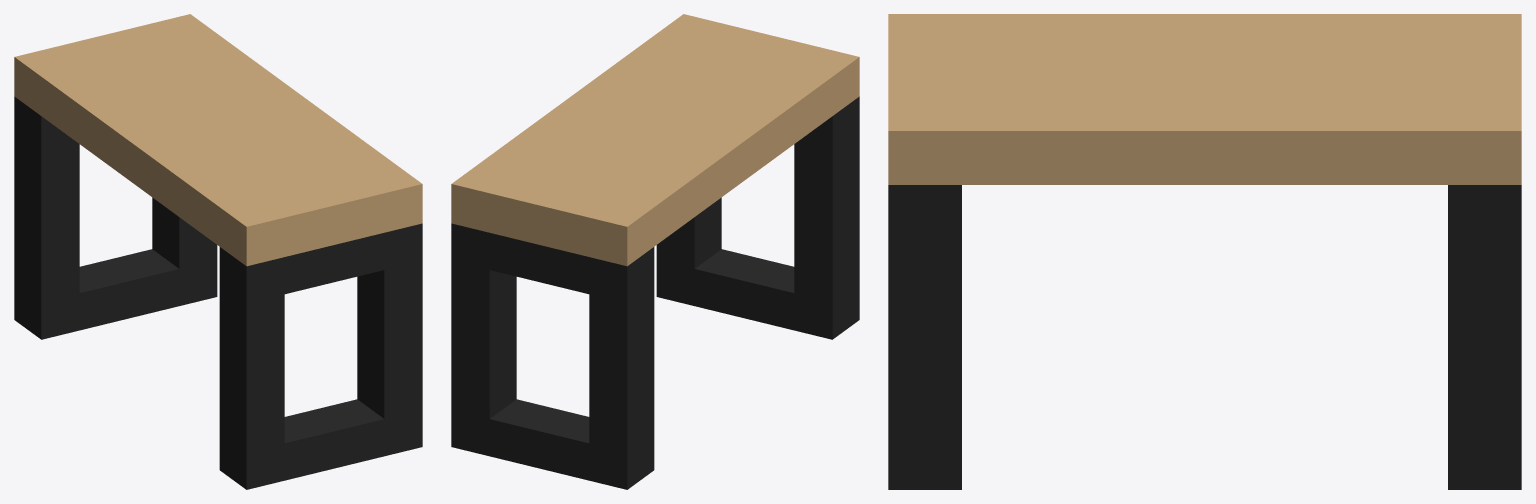
The model's file is Table.fbx.
3 renders of one model, left to right at view 1: azimuth 30°, elevation 25°; view 2: azimuth 150°, elevation 25°; view 3: azimuth 270°, elevation 25°, orthographic. The views are drawn at different scales.
Parts seen in each view (by area): view 1: Table; view 2: Table; view 3: Table.
Part boxes in pixels (box(x1,y1,x2,y2)): Table: box(14, 14, 422, 489); Table: box(451, 14, 859, 489); Table: box(888, 14, 1521, 489).
Size of the model in its own units: 700 by 1000 by 1600.
